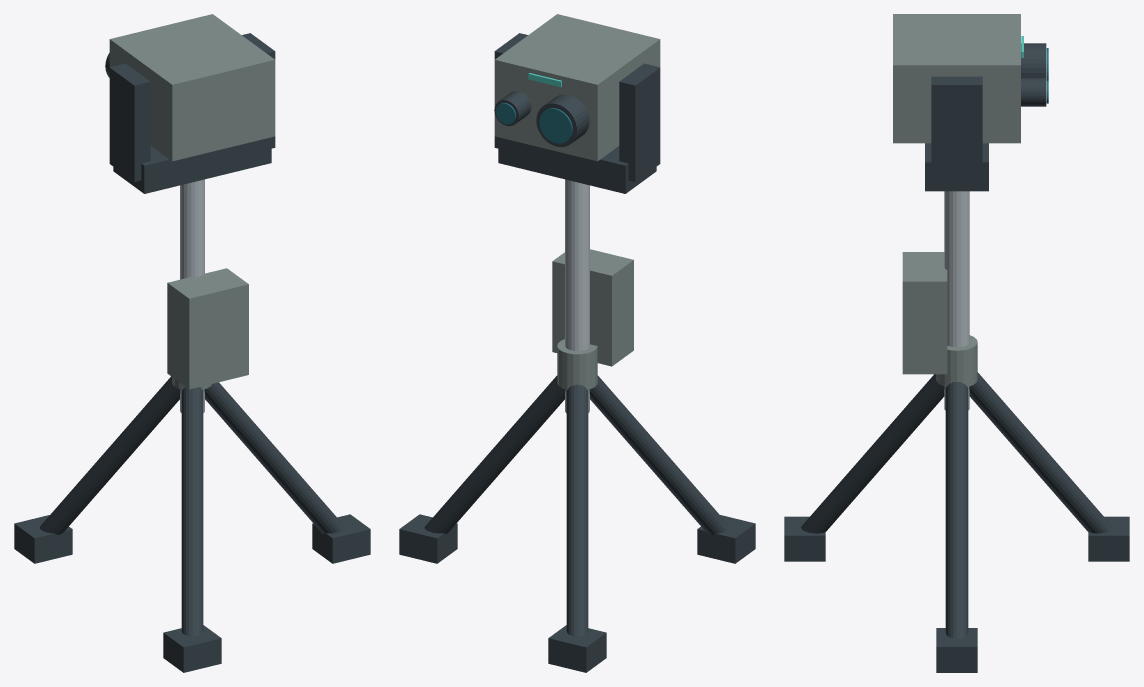
Rendered from thermal_camera.glb.
The picture shows the model from 3 angles, left to right: view 1: azimuth 30°, elevation 25°; view 2: azimuth 150°, elevation 25°; view 3: azimuth 270°, elevation 25°; orthographic projection. The views are drawn at different scales.
Parts seen in each view (by area): view 1: camera_housing, electronics, tripod_leg_2, yoke_arm, tripod_leg_1, tripod_leg_0, yoke_base, mast, rubber_foot_2, rubber_foot_0, rubber_foot_1; view 2: camera_housing, electronics, tripod_leg_1, yoke_arm, tripod_leg_2, mast, tripod_leg_0, yoke_base, rubber_foot_1, rubber_foot_0, rubber_foot_2, lens_bezel (×2) (+2 smaller); view 3: camera_housing, tripod_leg_0, yoke_arm, electronics, tripod_leg_1, tripod_leg_2, mast, rubber_foot_0, lens_bezel (×2), rubber_foot_1, rubber_foot_2, collar (+1 smaller).
Boxes of the visible parts, x1=… form: camera_housing: x1=109, y1=14, x2=275, y2=161; electronics: x1=167, y1=268, x2=248, y2=389; tripod_leg_2: x1=181, y1=387, x2=203, y2=636; yoke_arm: x1=109, y1=63, x2=150, y2=181; tripod_leg_1: x1=39, y1=376, x2=180, y2=534; tripod_leg_0: x1=204, y1=382, x2=345, y2=533; yoke_base: x1=113, y1=137, x2=271, y2=193; mast: x1=180, y1=179, x2=204, y2=413; rubber_foot_2: x1=163, y1=625, x2=221, y2=672; rubber_foot_0: x1=312, y1=514, x2=370, y2=563; rubber_foot_1: x1=14, y1=515, x2=72, y2=563; camera_housing: x1=494, y1=14, x2=660, y2=161; electronics: x1=552, y1=249, x2=633, y2=366; tripod_leg_1: x1=566, y1=384, x2=588, y2=636; yoke_arm: x1=619, y1=63, x2=660, y2=181; tripod_leg_2: x1=589, y1=375, x2=730, y2=534; mast: x1=565, y1=179, x2=589, y2=413; tripod_leg_0: x1=424, y1=375, x2=565, y2=533; yoke_base: x1=498, y1=137, x2=656, y2=193; rubber_foot_1: x1=548, y1=625, x2=606, y2=672; rubber_foot_0: x1=399, y1=514, x2=457, y2=563; rubber_foot_2: x1=697, y1=515, x2=755, y2=563; lens_bezel (×2): x1=494, y1=91, x2=589, y2=147; camera_housing: x1=893, y1=14, x2=1020, y2=143; tripod_leg_0: x1=945, y1=382, x2=968, y2=638; yoke_arm: x1=931, y1=76, x2=982, y2=183; electronics: x1=902, y1=252, x2=947, y2=374; tripod_leg_1: x1=969, y1=372, x2=1112, y2=533; tripod_leg_2: x1=801, y1=374, x2=944, y2=533; mast: x1=944, y1=191, x2=969, y2=410; rubber_foot_0: x1=936, y1=628, x2=977, y2=672; lens_bezel (×2): x1=1021, y1=43, x2=1046, y2=106; rubber_foot_1: x1=1088, y1=516, x2=1129, y2=561; rubber_foot_2: x1=784, y1=516, x2=825, y2=561; collar: x1=936, y1=335, x2=977, y2=386.
Bounding box in the file's own units: 0.965 × 1.9 × 1.08.
